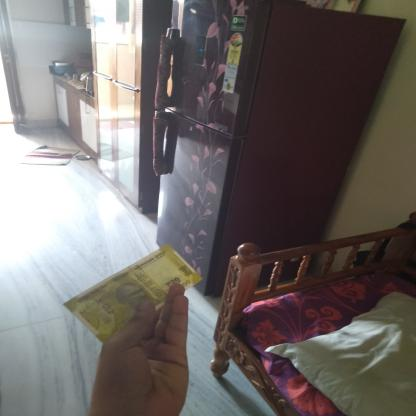New20Front: (81, 250, 190, 328)
